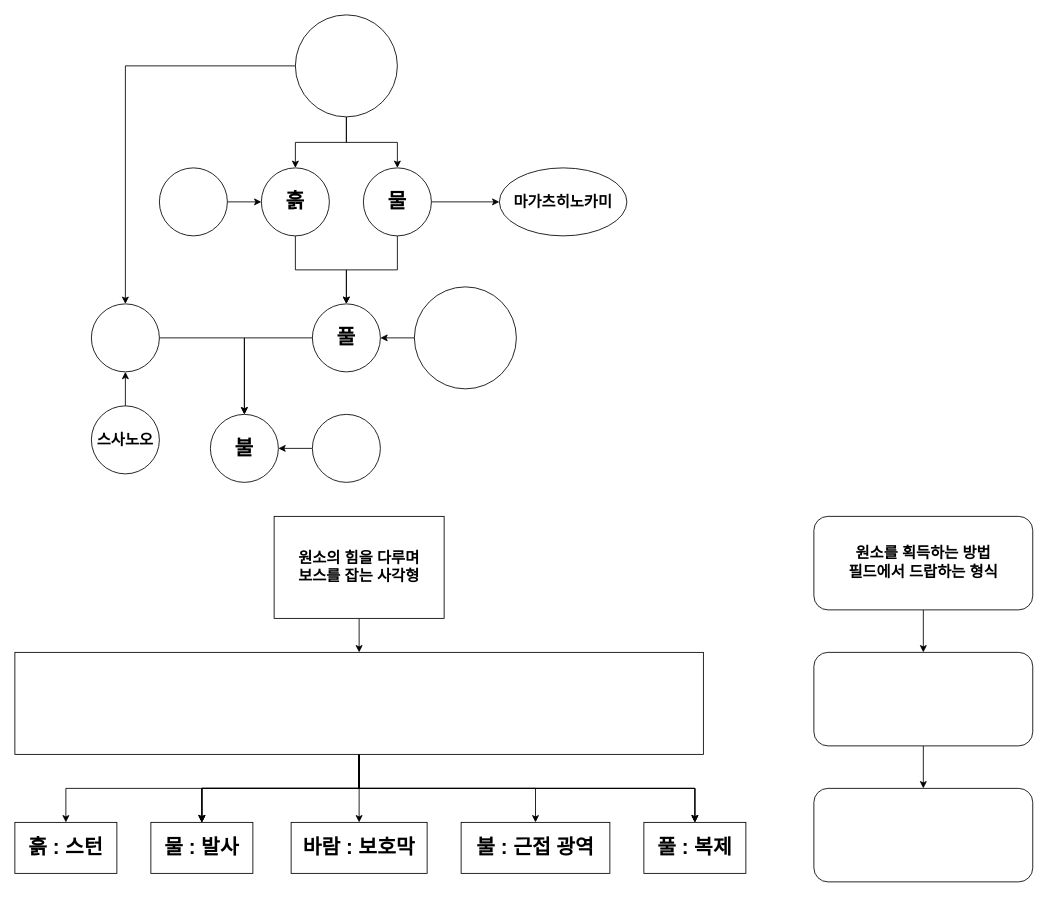
Some shapes in this 1048 by 897 pixel diagram are drawn without their labels. Here are the shapes that lost their labels. From the top down, the centre of each, then its label:
At point 346,65: "원소".
At point 193,201: "다이지".
At point 125,337: "바람".
At point 465,337: "사쿠야 히메".
At point 346,448: "카구츠치".
At point 358,703: "사각형은 각 원소에 해당하는 일본 신화 속 신들에게서 능력을 빌려 쓴다.".
At point 923,699: "5가지의 모든 원소가 생성 되지만 조합을 통해 만들면 특수 효과가 발현 됨".
